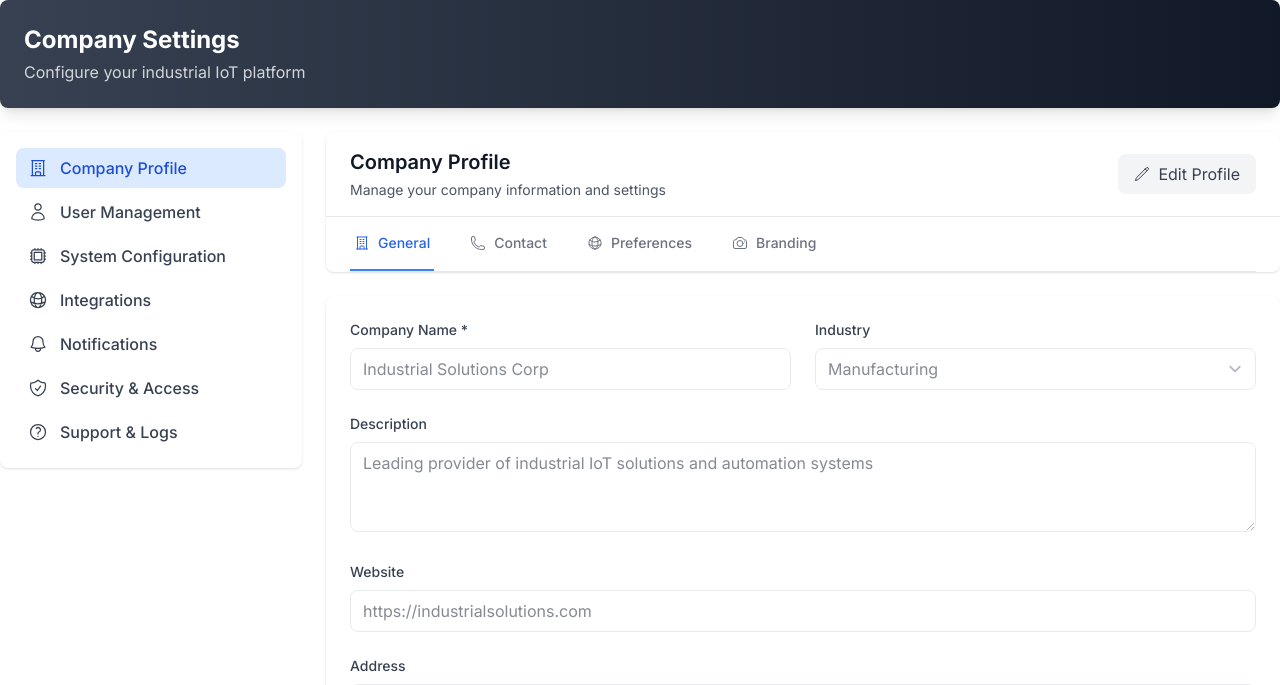
Test case: CompanySettings › shows placeholder for notifications section
Click the button "Notifications". click: (151, 344)
box: x1=16 y1=324 x2=286 y2=364
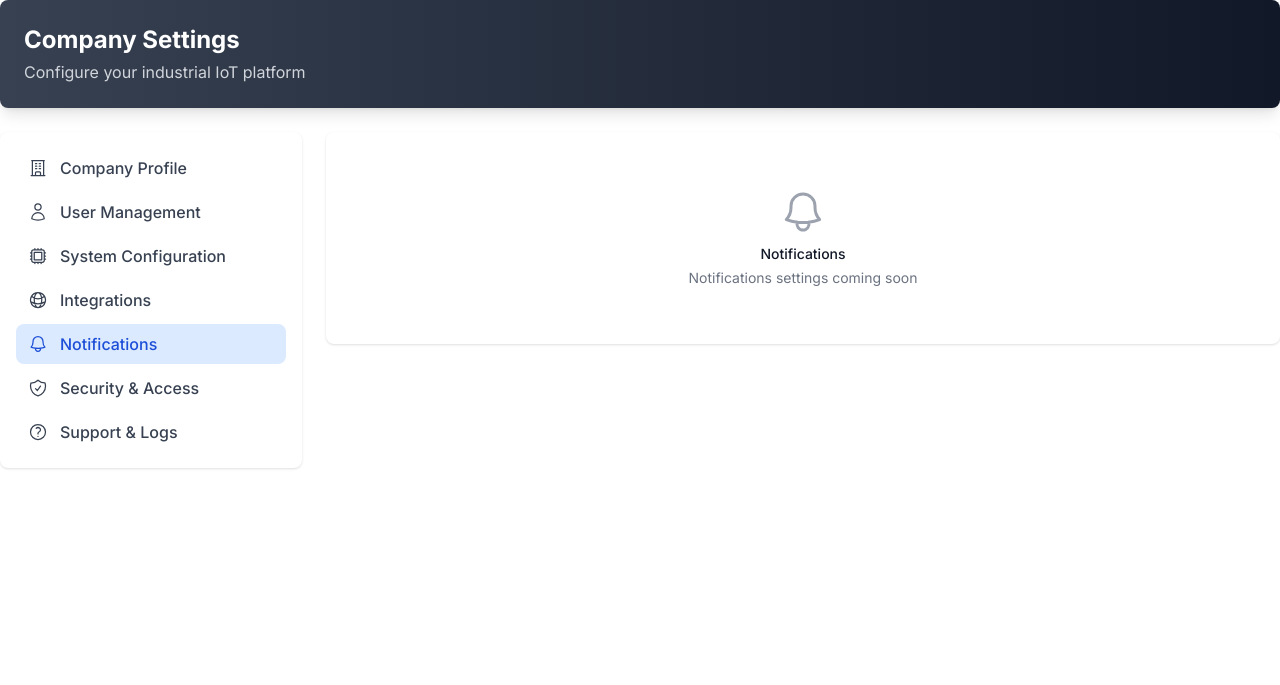
Result: the text "Notifications settings coming soon" is shown at x1=688 y1=269 x2=918 y2=286
